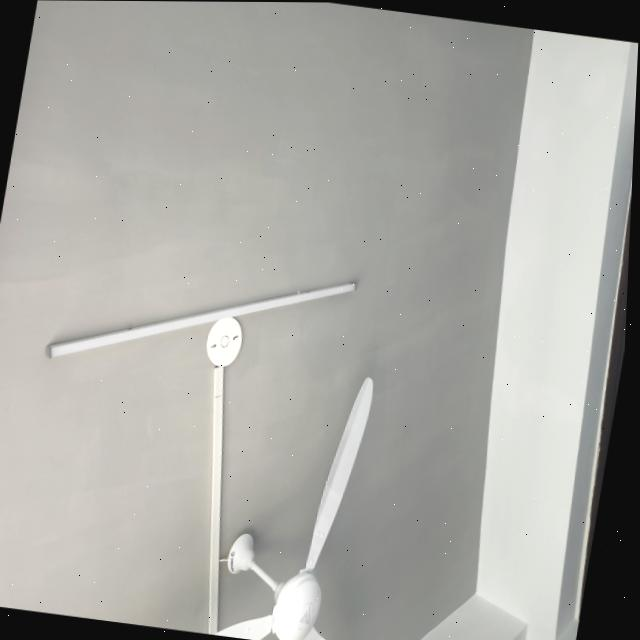light_off: (42, 227, 370, 402)
